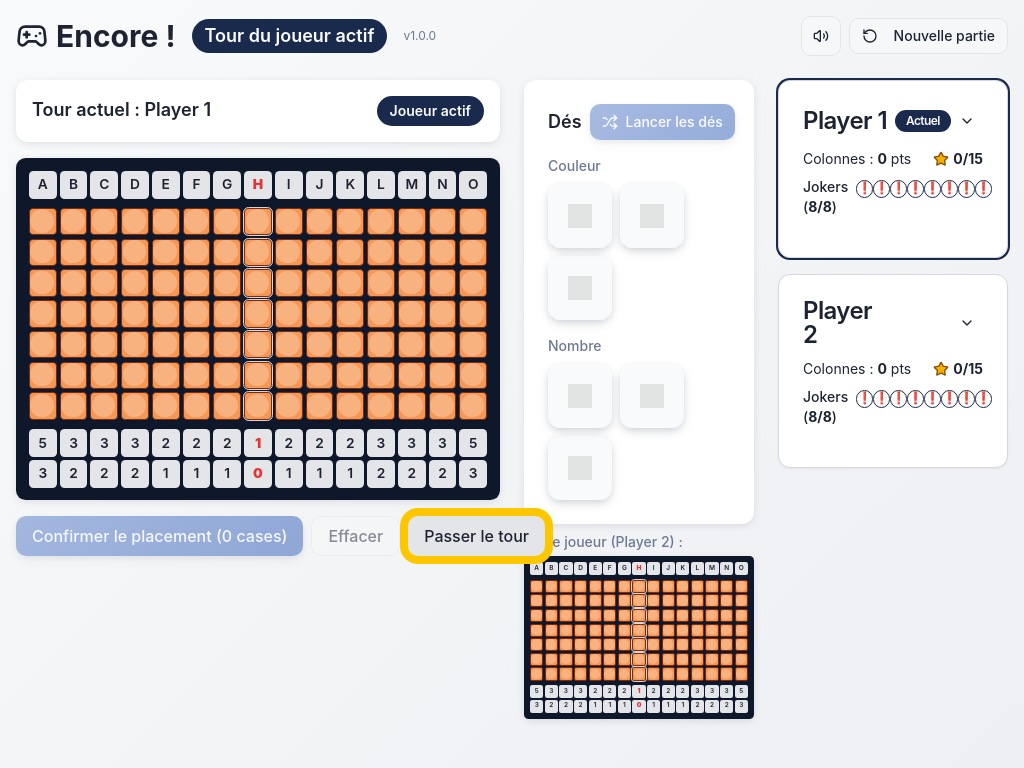
Test: EncoreGame selection logic › asks for confirmation before abandoning a game in progress
Click the button "Nouvelle partie" at (928, 36), box x1=849 y1=18 x2=1008 y2=54
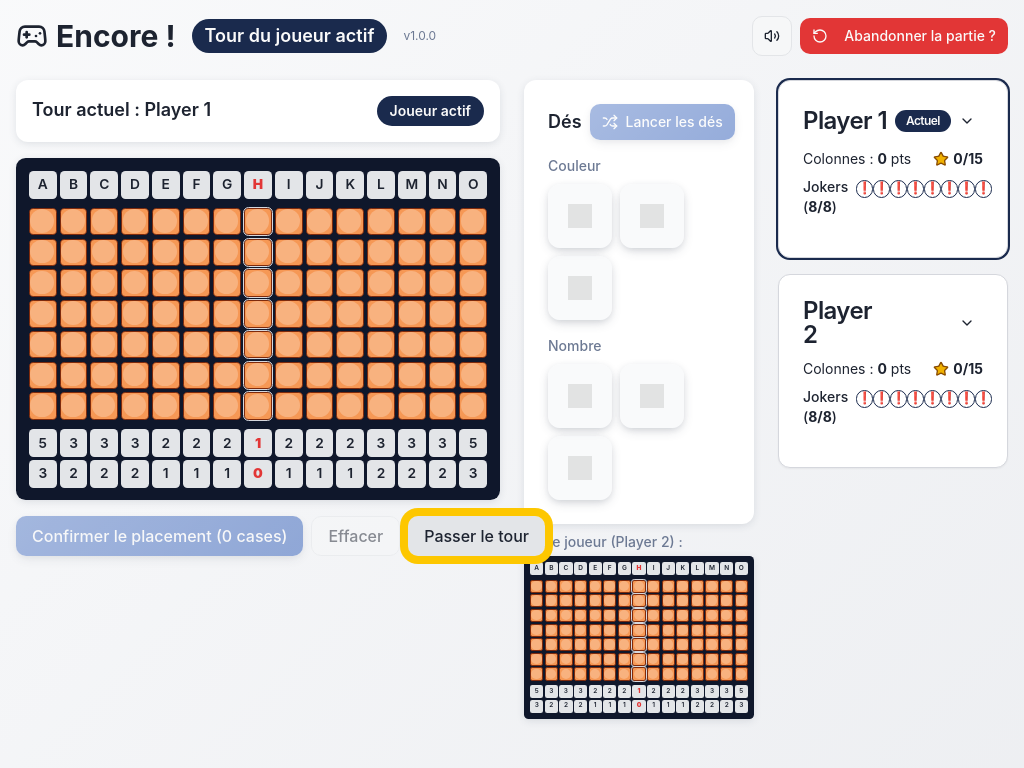
Click the button "Abandonner la partie ?" at (904, 36), box x1=800 y1=18 x2=1008 y2=54
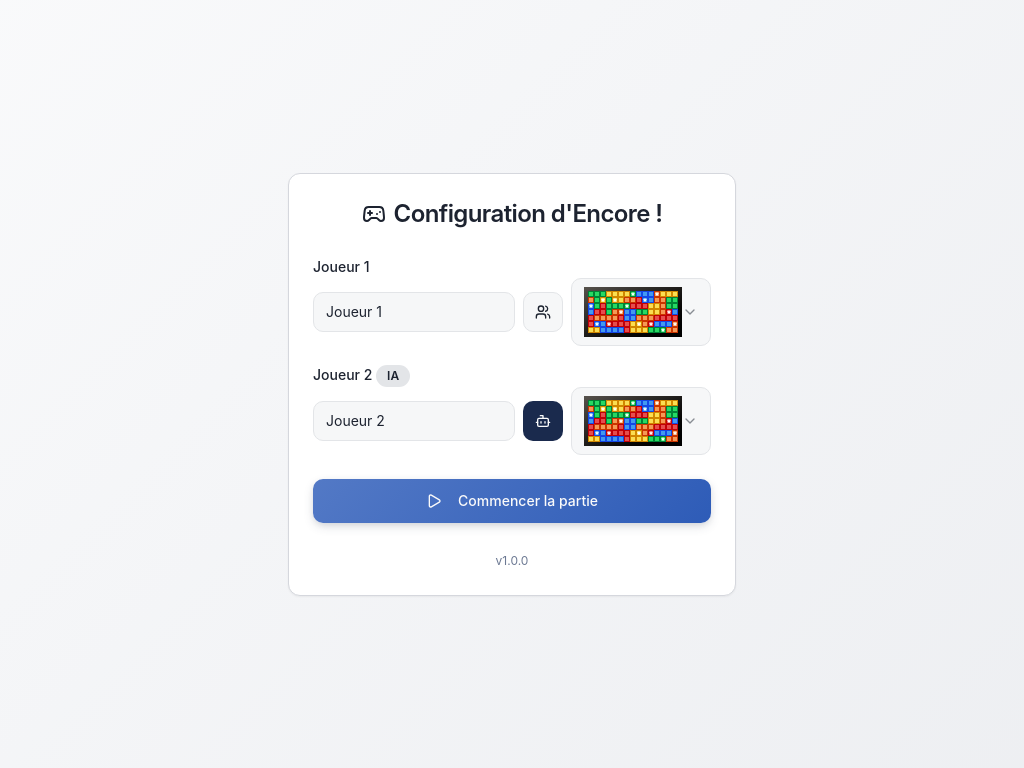
Result: the button "Commencer la partie" is shown at x1=313 y1=478 x2=711 y2=522
